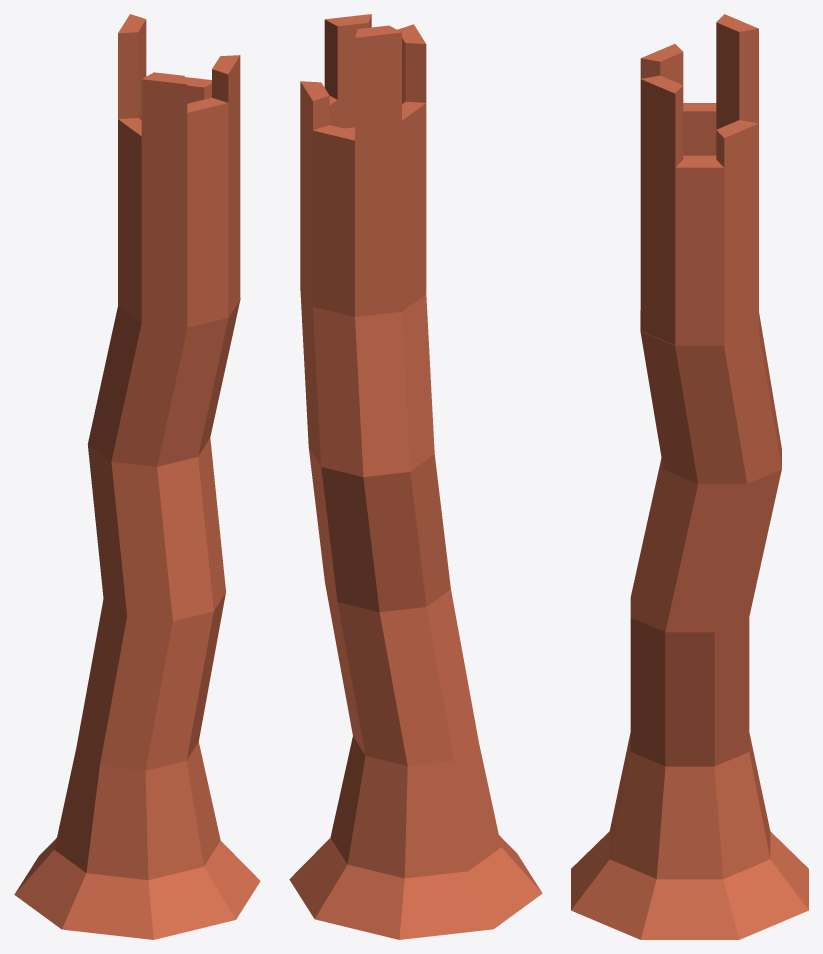
File: PalmTreeBrokenBot.fbx
The picture shows the model from 3 angles, left to right: view 1: azimuth 30°, elevation 25°; view 2: azimuth 150°, elevation 25°; view 3: azimuth 270°, elevation 25°; orthographic projection. The views are drawn at different scales.
Visible parts, largest first — view 1: trunk_skew (×3), trunk_base, trunk, trunk_topBroken; view 2: trunk_skew (×3), trunk_base, trunk, trunk_topBroken; view 3: trunk_skew (×3), trunk_base, trunk, trunk_topBroken.
Part boxes in pixels (x1,y1,x2,y2): trunk_skew (×3): [76, 298, 240, 770]; trunk_base: [14, 742, 260, 939]; trunk: [118, 156, 240, 327]; trunk_topBroken: [118, 14, 240, 184]; trunk_skew (×3): [300, 287, 478, 765]; trunk_base: [289, 736, 542, 939]; trunk: [300, 127, 426, 316]; trunk_topBroken: [300, 14, 426, 169]; trunk_skew (×3): [630, 310, 781, 766]; trunk_base: [571, 733, 808, 939]; trunk: [640, 155, 758, 345]; trunk_topBroken: [640, 14, 758, 197].
Bounding box in the file's own units: 7.28 × 29.5 × 7.28.
